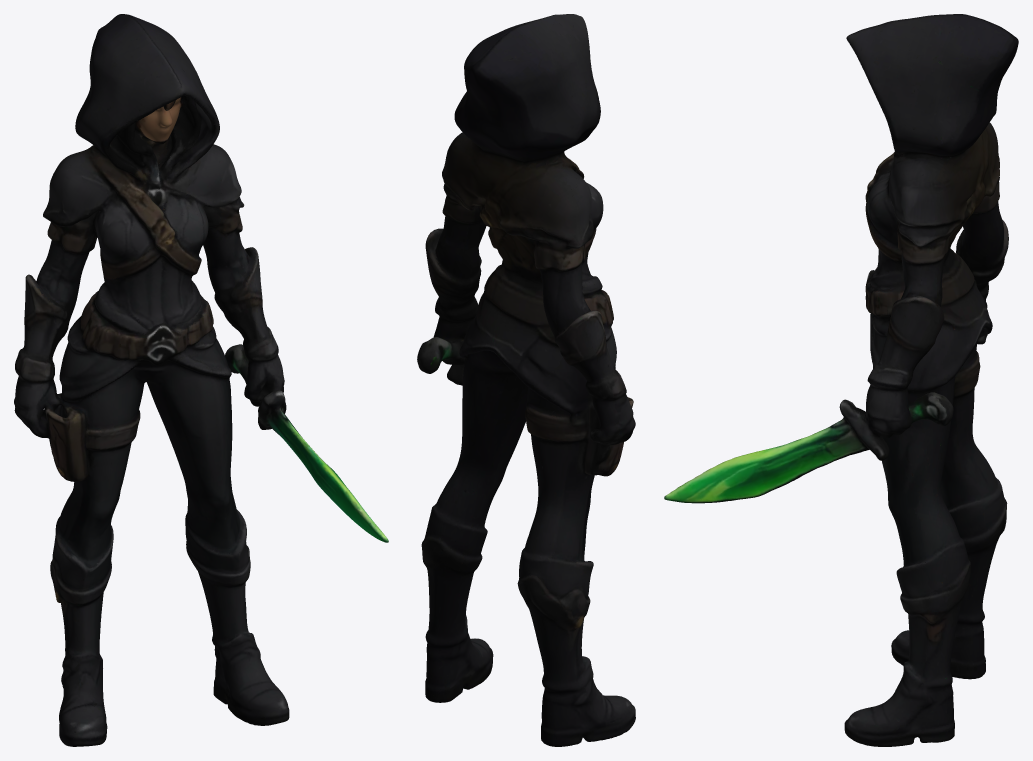
The model's file is assassin.glb.
3 renders of one model, left to right at view 1: azimuth 30°, elevation 25°; view 2: azimuth 150°, elevation 25°; view 3: azimuth 270°, elevation 25°, orthographic. The views are drawn at different scales.
Parts seen in each view (by area): view 1: world; view 2: world; view 3: world.
Part boxes in pixels (x1,y1,x2,y2): world: (14, 14, 388, 746); world: (417, 14, 635, 746); world: (664, 14, 1018, 746).
Size of the model in its own units: 0.3442 by 1 by 0.471.
Materials: 1 (1 with a texture image).
